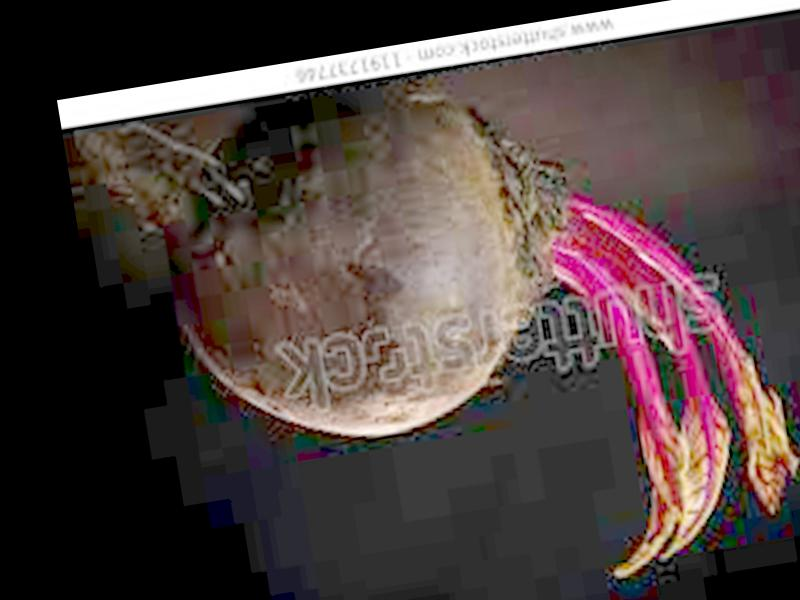Beet: (61, 23, 800, 600)
